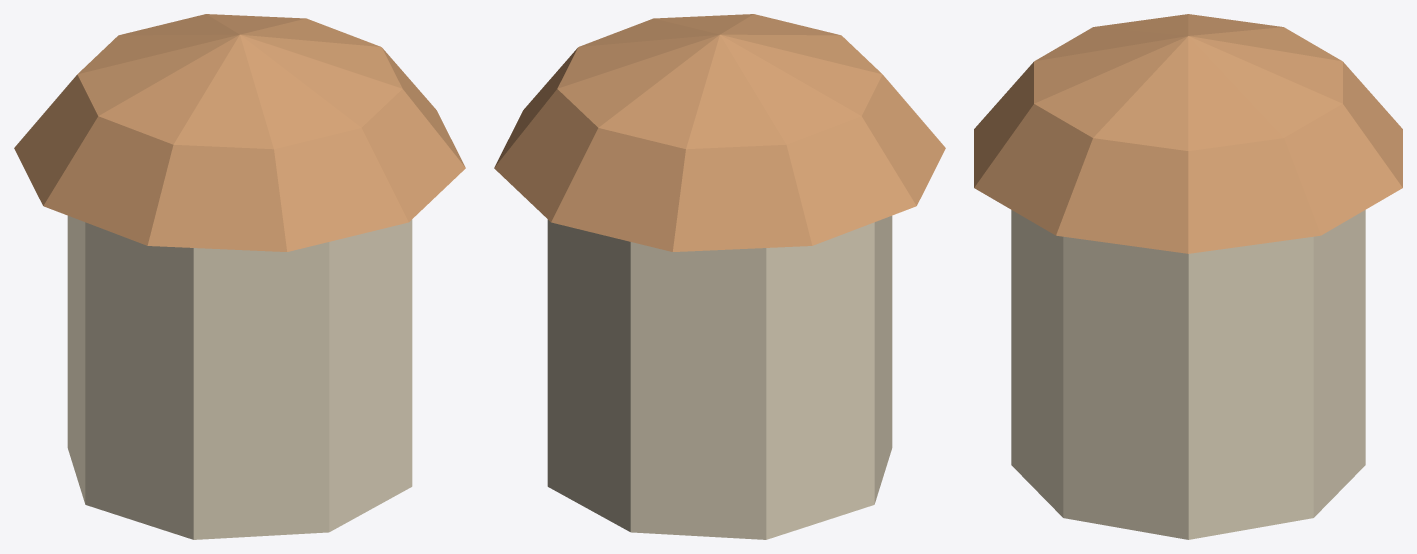
The model's file is drop_normal_mushroom.glb.
The picture shows the model from 3 angles, left to right: view 1: azimuth 30°, elevation 25°; view 2: azimuth 150°, elevation 25°; view 3: azimuth 270°, elevation 25°; orthographic projection.
Parts seen in each view (by area): view 1: FTF_Nature_Mushroom_Common_Pickup_StaticMesh; view 2: FTF_Nature_Mushroom_Common_Pickup_StaticMesh; view 3: FTF_Nature_Mushroom_Common_Pickup_StaticMesh.
Part boxes in pixels (x1,y1,x2,y2): FTF_Nature_Mushroom_Common_Pickup_StaticMesh: (14,14,465,539); FTF_Nature_Mushroom_Common_Pickup_StaticMesh: (494,14,945,539); FTF_Nature_Mushroom_Common_Pickup_StaticMesh: (974,14,1402,539).
Bounding box in the file's own units: 0.56 × 0.588 × 0.5326.
